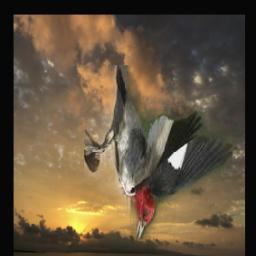Woodpecker: (84, 66, 232, 240)
